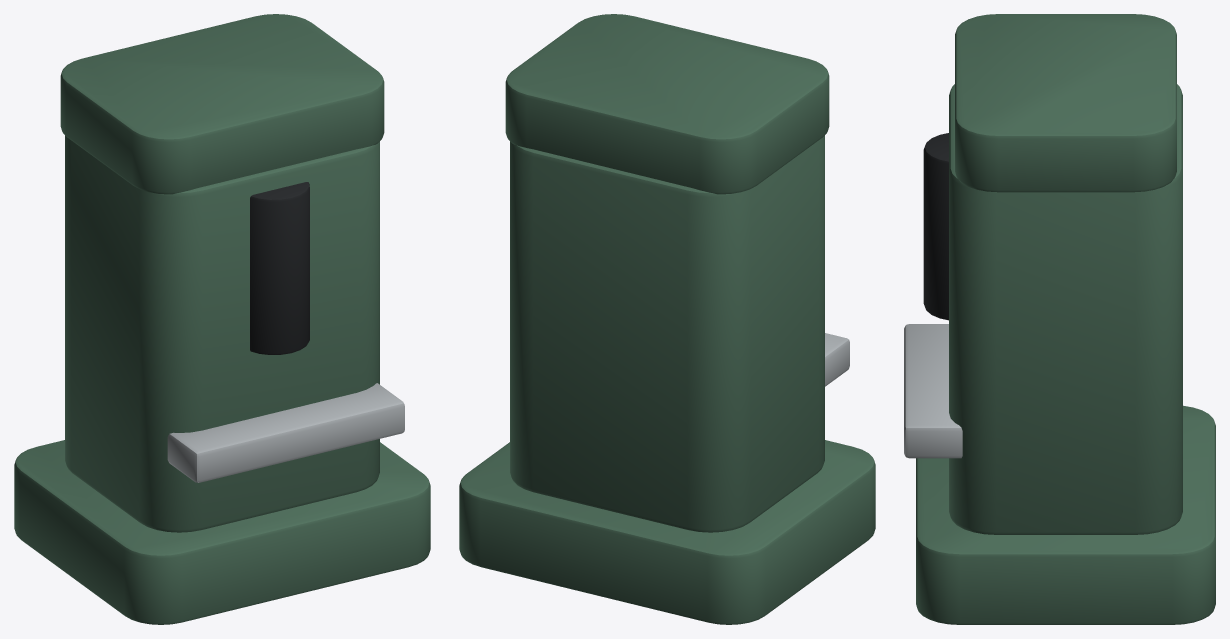
The model's file is club_cleaner_public.glb.
The picture shows the model from 3 angles, left to right: view 1: azimuth 30°, elevation 25°; view 2: azimuth 150°, elevation 25°; view 3: azimuth 270°, elevation 25°; orthographic projection. The views are drawn at different scales.
Parts seen in each view (by area): view 1: ClubCleaner_Cabinet, ClubCleaner_Lid, ClubCleaner_Base, ClubCleaner_DripTray, ClubCleaner_Brush_1; view 2: ClubCleaner_Cabinet, ClubCleaner_Lid, ClubCleaner_Base, ClubCleaner_DripTray; view 3: ClubCleaner_Cabinet, ClubCleaner_Lid, ClubCleaner_Base, ClubCleaner_DripTray, ClubCleaner_Brush_1.
Part boxes in pixels (<box>): ClubCleaner_Cabinet: <box>65,135,379,532</box>; ClubCleaner_Lid: <box>60,14,384,194</box>; ClubCleaner_Base: <box>14,440,430,624</box>; ClubCleaner_DripTray: <box>167,383,404,482</box>; ClubCleaner_Brush_1: <box>250,182,309,354</box>; ClubCleaner_Cabinet: <box>510,135,824,532</box>; ClubCleaner_Lid: <box>505,14,829,194</box>; ClubCleaner_Base: <box>459,440,875,624</box>; ClubCleaner_DripTray: <box>825,333,849,386</box>; ClubCleaner_Cabinet: <box>949,84,1182,534</box>; ClubCleaner_Lid: <box>955,14,1176,192</box>; ClubCleaner_Base: <box>916,405,1215,624</box>; ClubCleaner_DripTray: <box>904,324,962,458</box>; ClubCleaner_Brush_1: <box>923,133,948,320</box>.
Size of what is drawn, in the model's own units: 0.45 by 0.6681 by 0.3952.
